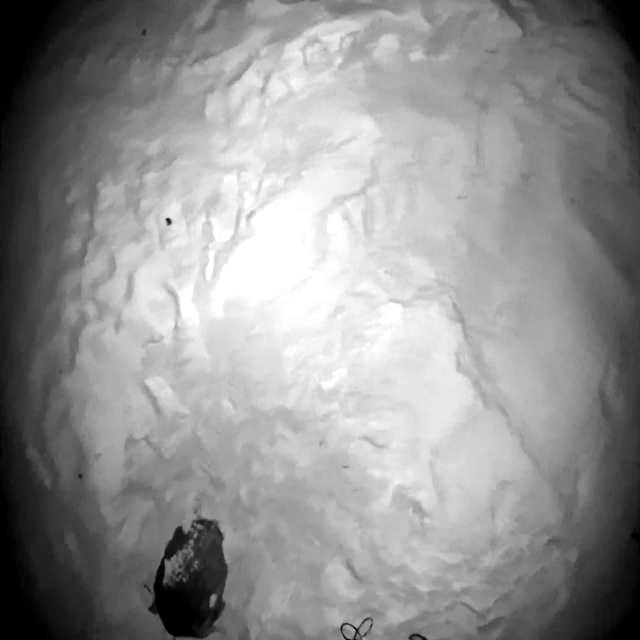Sea turtle: (130, 503, 238, 640)
